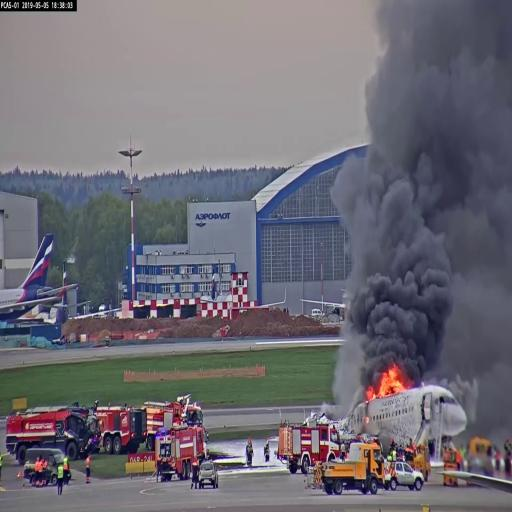fire: (372, 365, 410, 405)
smoke: (369, 66, 457, 336)
